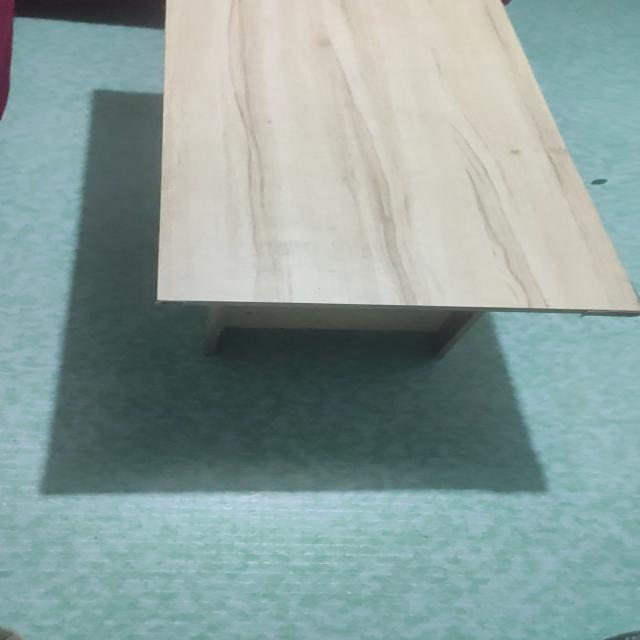table: (142, 0, 640, 381)
